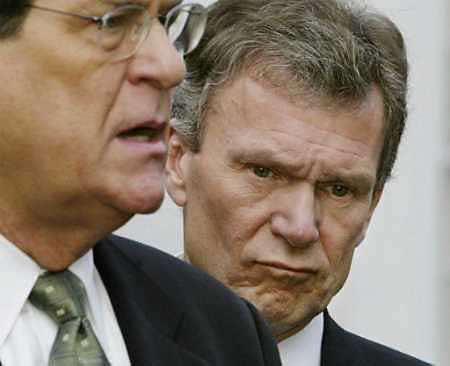Face: (202, 97, 381, 332), (31, 1, 189, 224)
